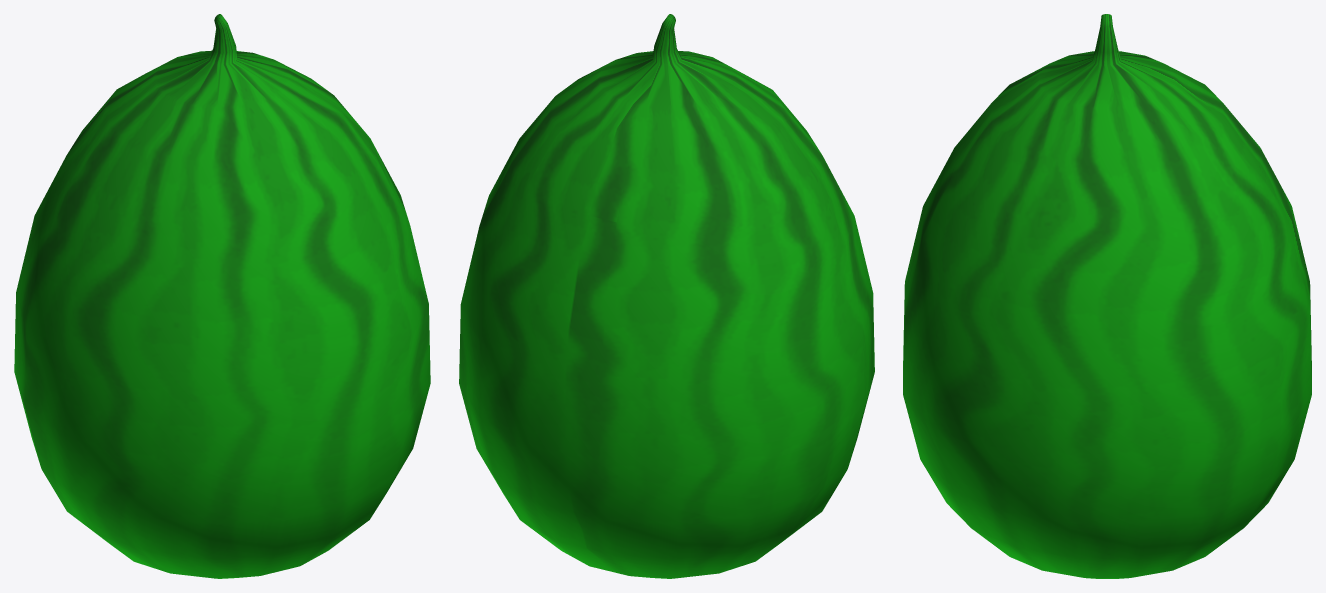
Rendered from cucumber.fbx.
3 renders of one model, left to right at view 1: azimuth 30°, elevation 25°; view 2: azimuth 150°, elevation 25°; view 3: azimuth 270°, elevation 25°, orthographic.
Parts seen in each view (by area): view 1: Cucumber; view 2: Cucumber; view 3: Cucumber.
Boxes of the visible parts, x1,y1,x2,y2 form: Cucumber: (14,14,430,578); Cucumber: (459,14,874,578); Cucumber: (903,14,1311,578).
Size of the model in its own units: 28.56 by 42.26 by 28.56.
